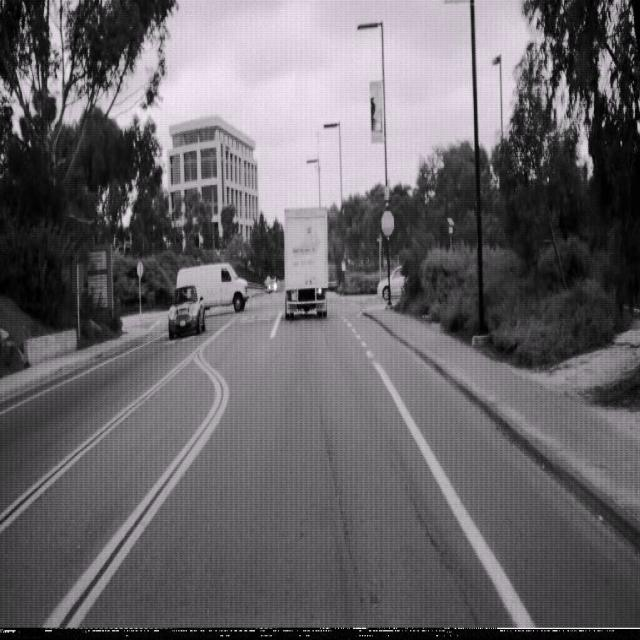stop: (380, 210, 394, 238)
